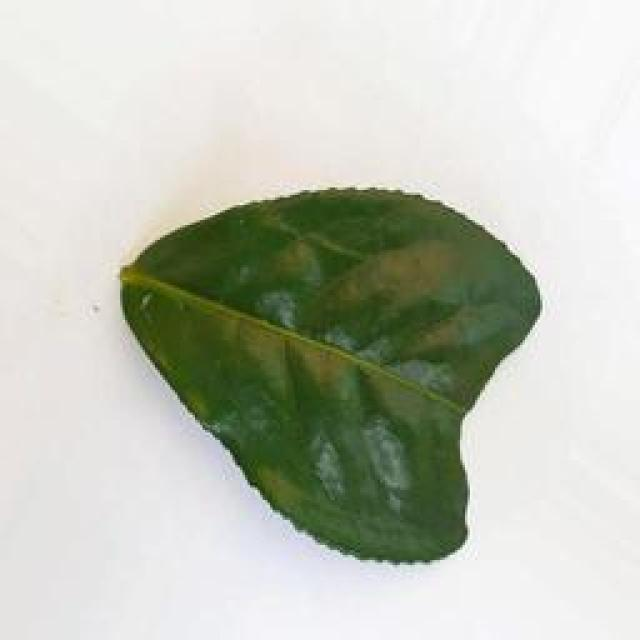Healthy: (107, 178, 558, 569)
